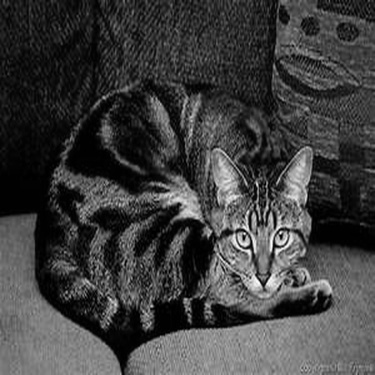cat: (39, 80, 335, 343)
